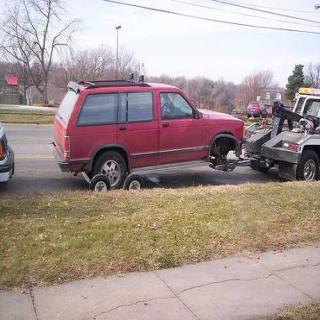Towing_truck: (245, 84, 319, 182)
